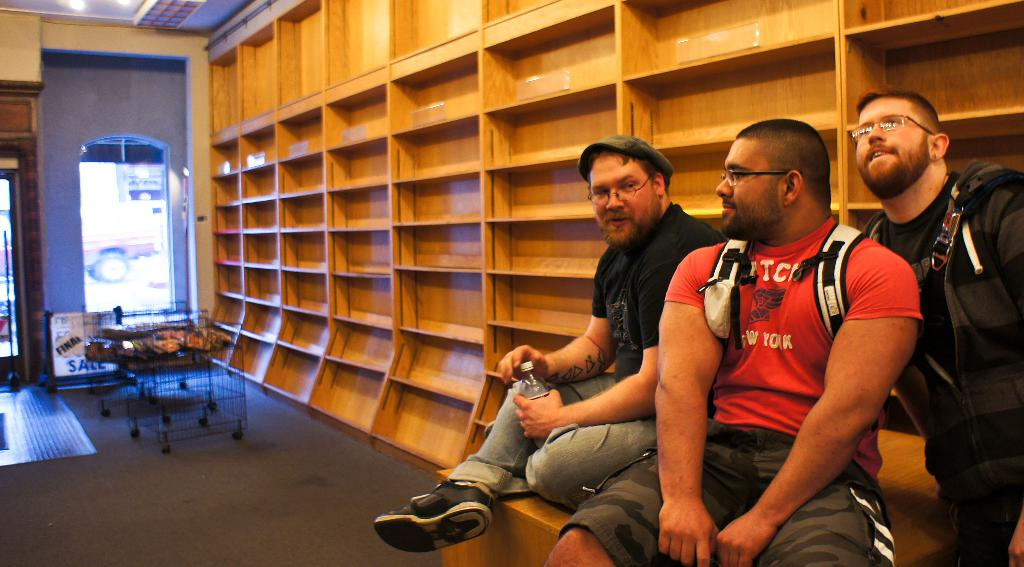Footwear: (376, 484, 492, 552)
